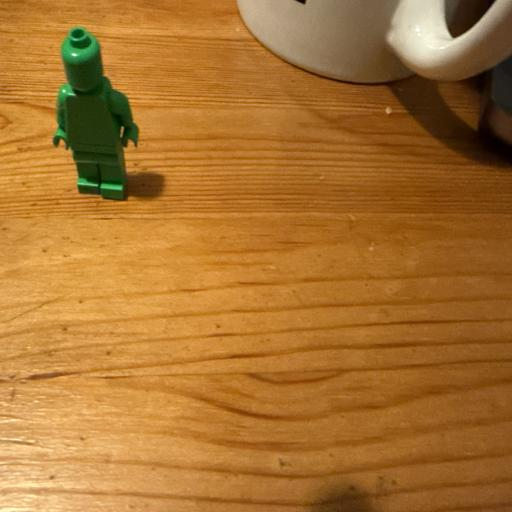Minifig: (52, 27, 138, 200), (61, 27, 102, 92)
